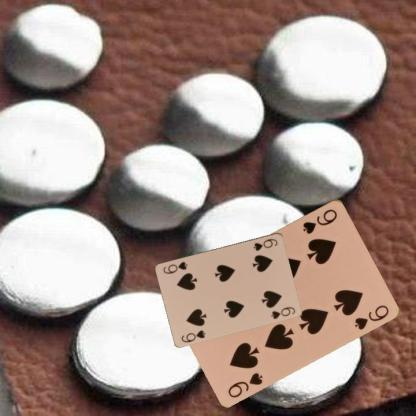6s: (250, 236, 280, 252), (178, 327, 207, 343)
9s: (225, 370, 264, 399), (300, 206, 338, 235)
